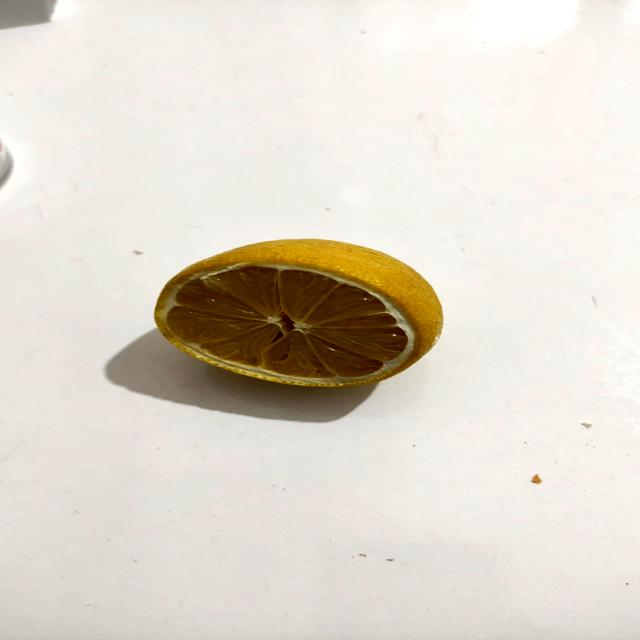lemon: (139, 229, 470, 396)
